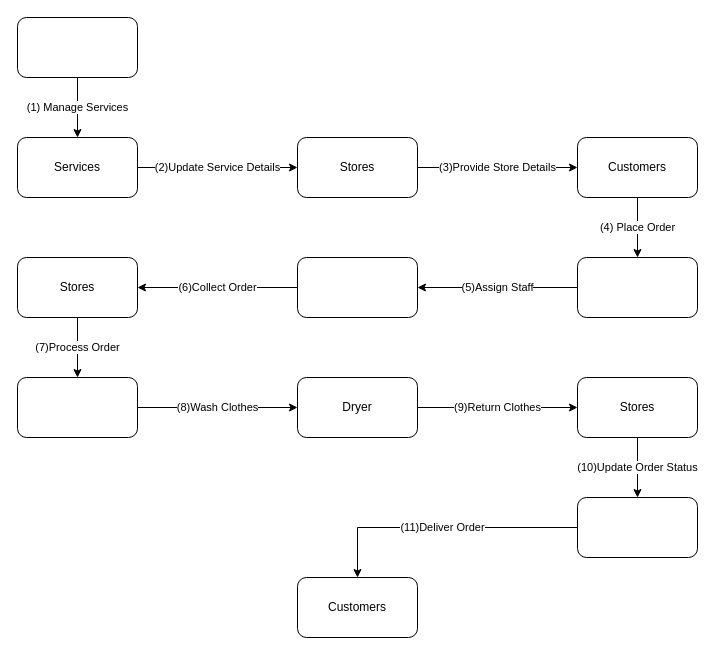
This 715x655 diagram has some shape labels left out. The shapes that lost their labels are listed below. From the top down, each one's centre as x and y in pixels, then its label:
At (x=77, y=47): "Admin".
At (x=357, y=287): "Staff Members".
At (x=637, y=287): "Platform Processes".
At (x=637, y=527): "Staff".
